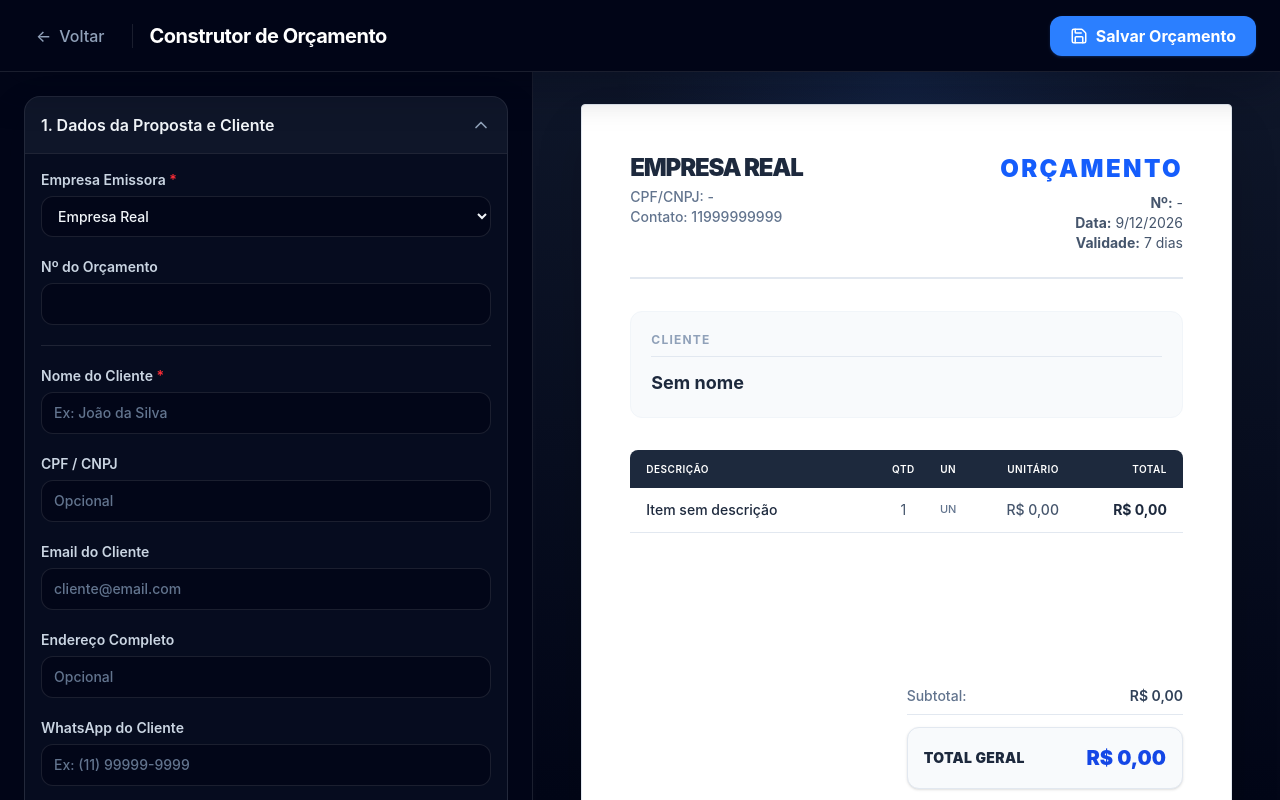
Test: BudgetPage › blocks invalid submit with visible validation errors
This screenshot has width=1280, height=800.
Click the button "Salvar Orçamento".
click(1153, 36)  # box [1050,16,1256,56]
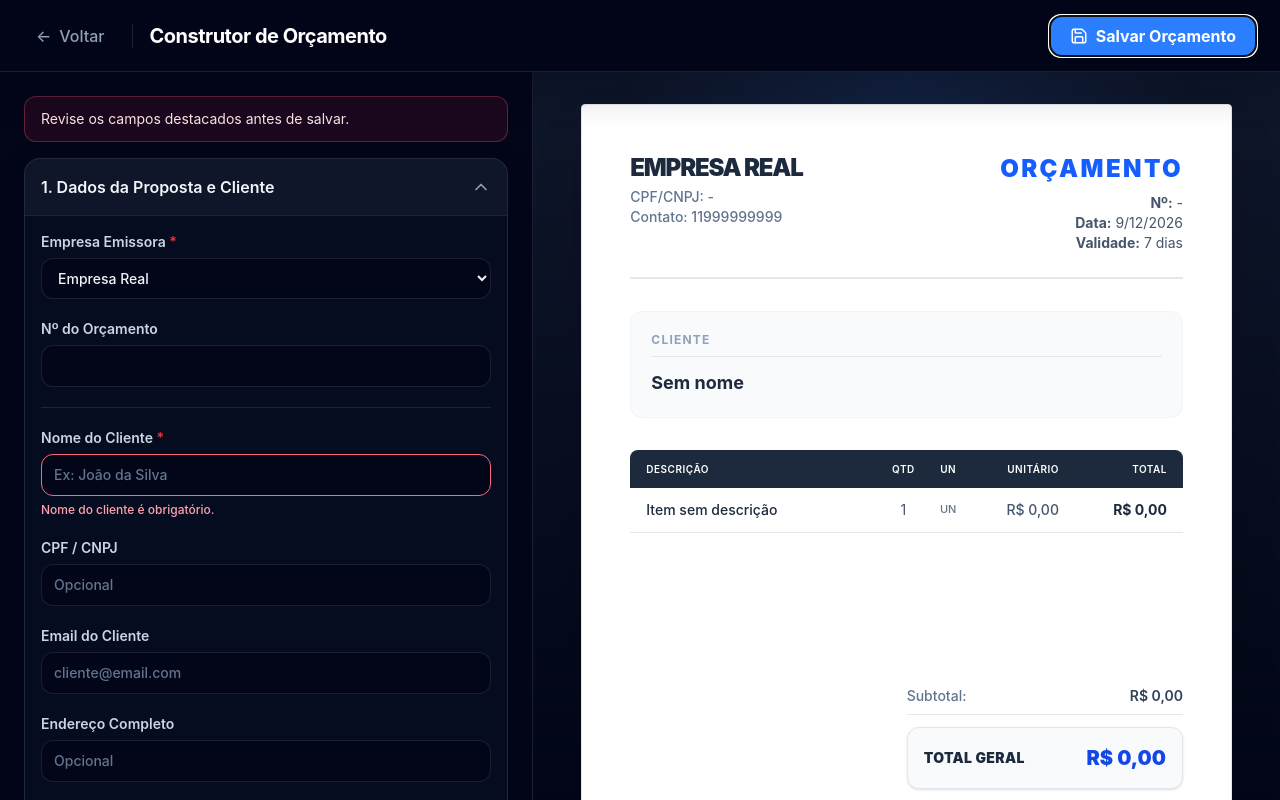
Expected: the text "Revise os campos destacados antes de salvar." is shown, [24,96,508,142]
Expected: the text "Nome do cliente é obrigatório." is shown, [41,502,214,517]
